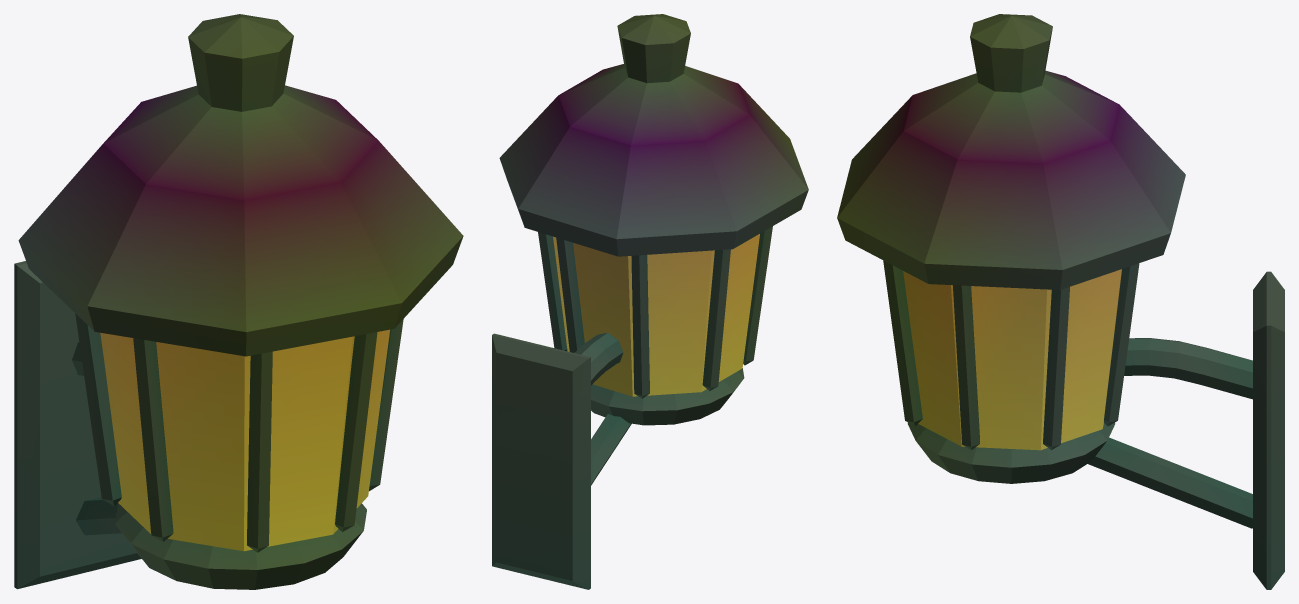
File: Prop_WallLantern.fbx
The picture shows the model from 3 angles, left to right: view 1: azimuth 30°, elevation 25°; view 2: azimuth 150°, elevation 25°; view 3: azimuth 270°, elevation 25°; orthographic projection. The views are drawn at different scales.
Parts seen in each view (by area): view 1: Prop_WallLantern; view 2: Prop_WallLantern; view 3: Prop_WallLantern.
Boxes of the visible parts, bbox=[...] form: Prop_WallLantern: bbox=[14, 14, 463, 589]; Prop_WallLantern: bbox=[492, 14, 808, 589]; Prop_WallLantern: bbox=[837, 14, 1284, 589].
Size of the model in its own units: 0.3829 by 0.6625 by 0.4914.
